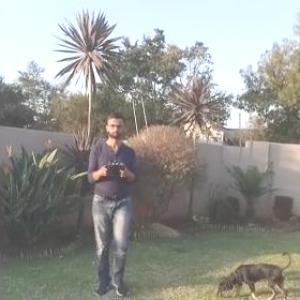follow: (82, 107, 136, 299)
null: (212, 250, 295, 299)
